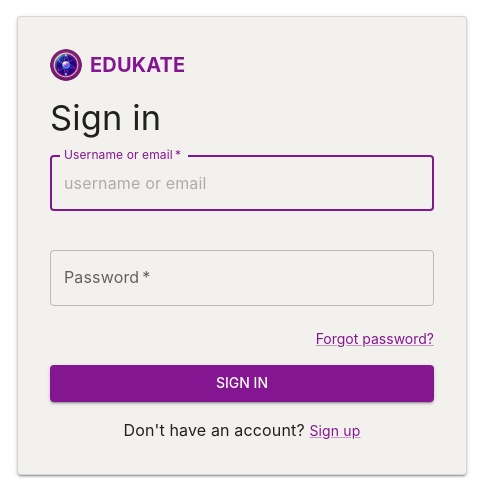
it: SignInForm › shows both validation errors when submitted with empty fields
Click the button "Sign in". click: point(242, 384)
box: [50,365,434,402]
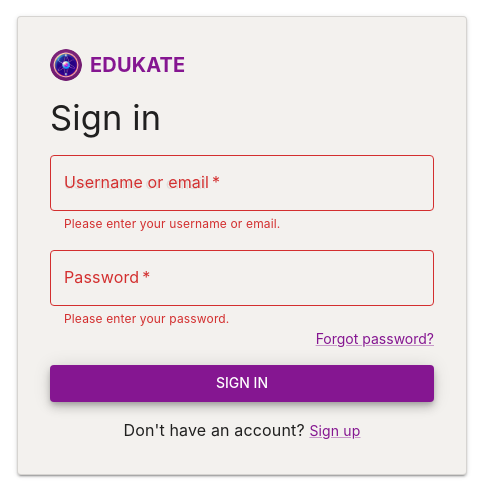
expect the text "Please enter your username or email." is shown: met, box [64,216,280,232]
expect the text "Please enter your password." is shown: met, box [64,311,230,326]
